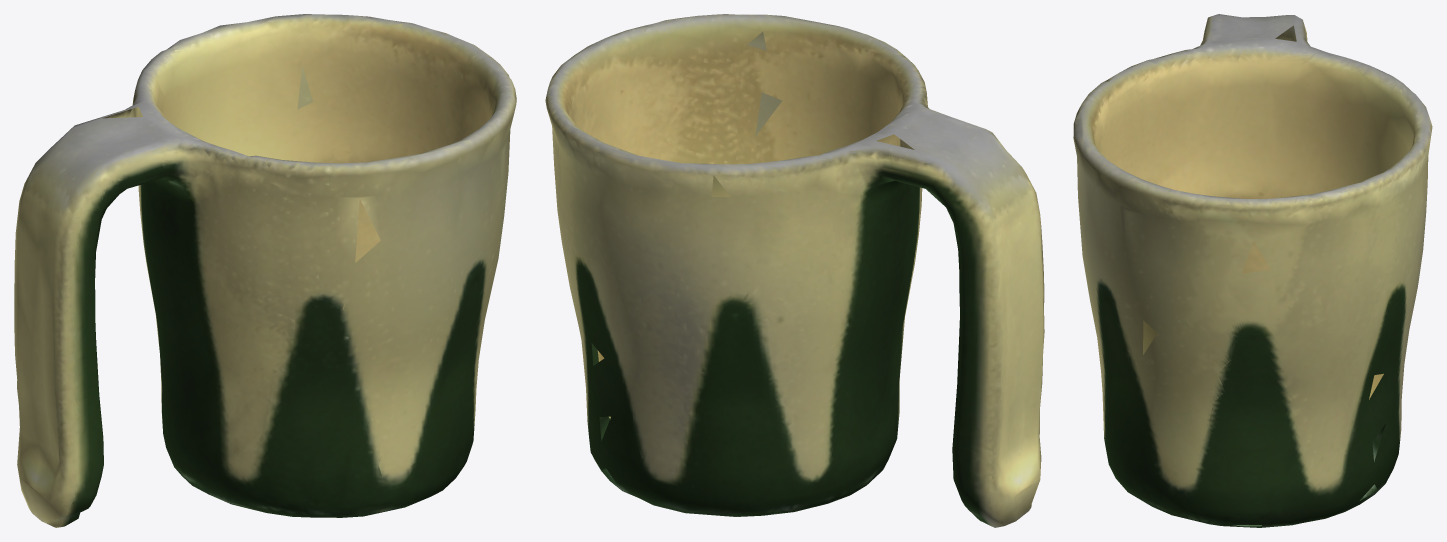
File: denden_mug_mountain.dae
3 renders of one model, left to right at view 1: azimuth 30°, elevation 25°; view 2: azimuth 150°, elevation 25°; view 3: azimuth 270°, elevation 25°, orthographic. The views are drawn at different scales.
Visible parts, largest first — view 1: Denden_mug_mt_gr_001; view 2: Denden_mug_mt_gr_001; view 3: Denden_mug_mt_gr_001.
Boxes of the visible parts, <box> form: Denden_mug_mt_gr_001: <box>14,14,516,527</box>; Denden_mug_mt_gr_001: <box>545,14,1044,527</box>; Denden_mug_mt_gr_001: <box>1073,14,1432,527</box>.
Bounding box in the file's own units: 0.1129 × 0.0812 × 0.0898.
1 material, 1 textured.
